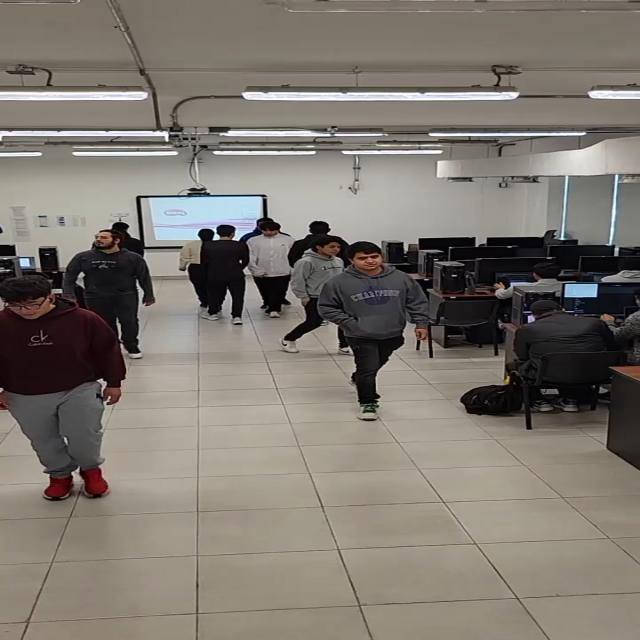Persona: (5, 278, 121, 495), (342, 245, 427, 411), (73, 230, 157, 336), (297, 240, 343, 332), (254, 218, 295, 316), (214, 224, 250, 325), (184, 226, 208, 296), (302, 220, 343, 242)
